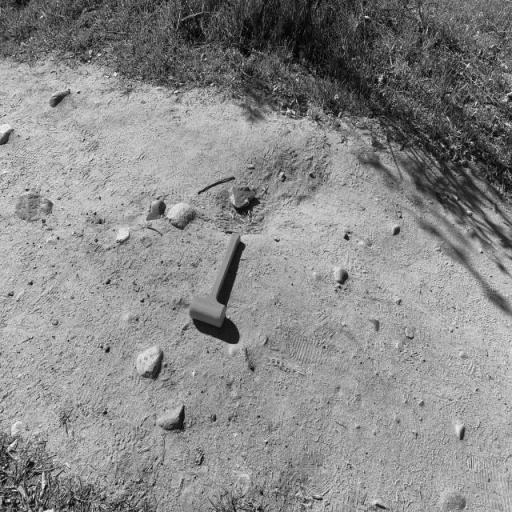mallet: (189, 232, 241, 327)
